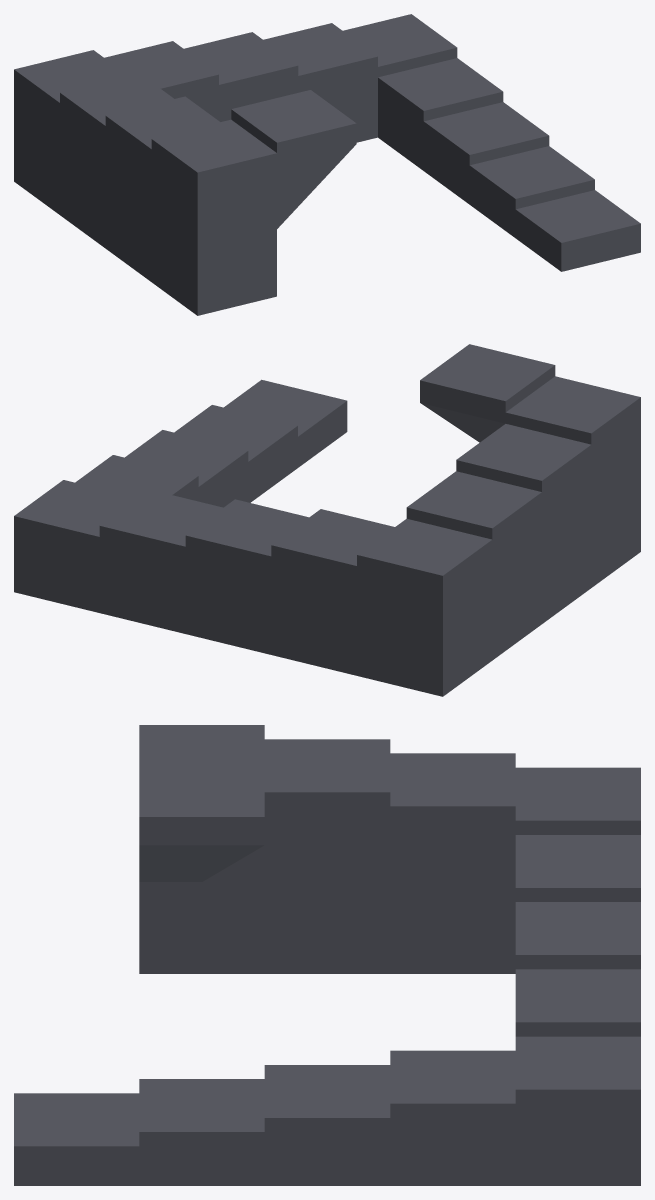
The model's file is pstairs.glb.
3 renders of one model, top to bottom at view 1: azimuth 30°, elevation 25°; view 2: azimuth 150°, elevation 25°; view 3: azimuth 270°, elevation 25°, orthographic. The views are drawn at different scales.
Parts seen in each view (by area): view 1: node_id35; view 2: node_id35; view 3: node_id35.
Boxes of the visible parts, x1=… form: node_id35: x1=14, y1=14, x2=640, y2=315; node_id35: x1=14, y1=344, x2=640, y2=696; node_id35: x1=14, y1=725, x2=640, y2=1185.
Bounding box in the file's own units: 0.512 × 0.1893 × 0.512.
1 material, 1 textured.
